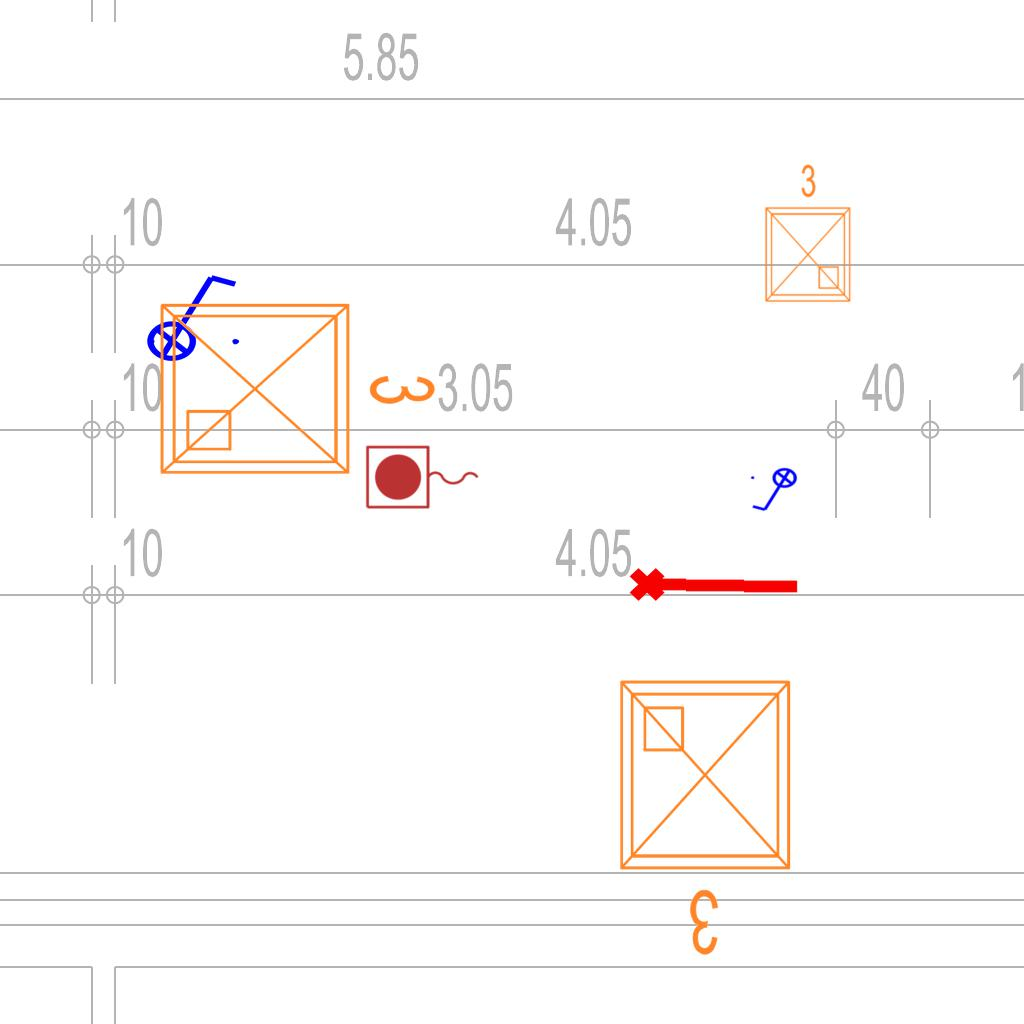ASR_Ansaugoeffnung: (626, 558, 804, 608)
Ausschalter_beleuchtet: (133, 267, 245, 363), (748, 467, 804, 515)
Einbaudownlights_LED_Konferenzraeume: (605, 666, 813, 966), (146, 281, 446, 489), (754, 159, 858, 309)
Zugtaster: (362, 442, 484, 514)
